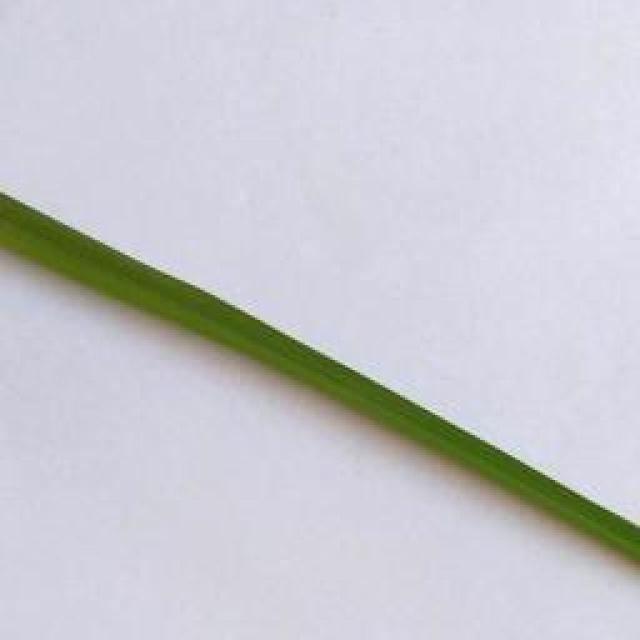Healthy: (0, 192, 640, 568)
